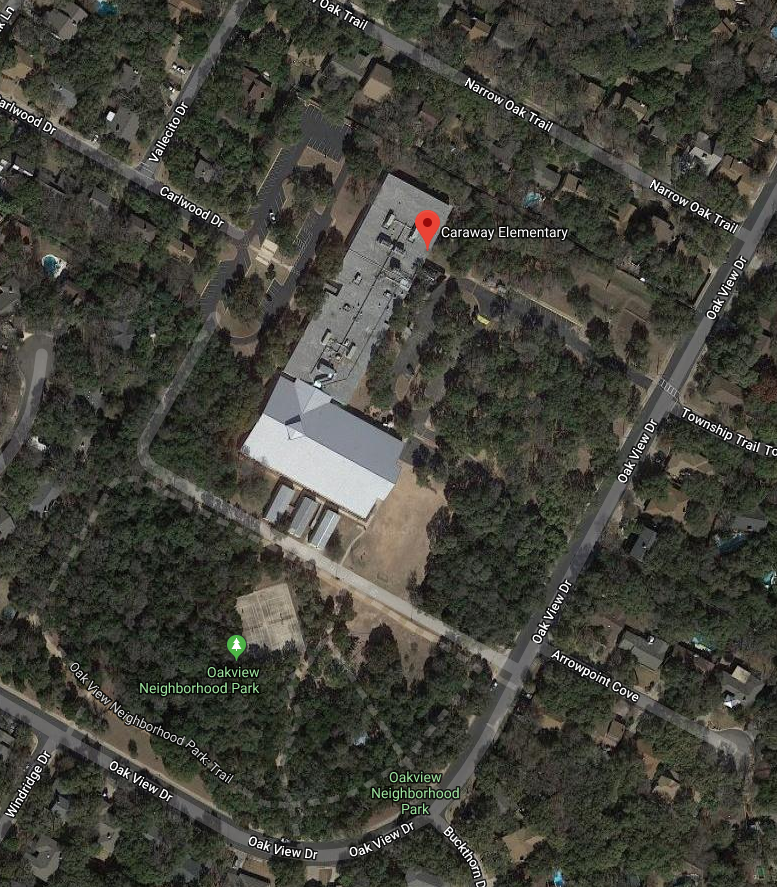tennis: (217, 575, 324, 695)
